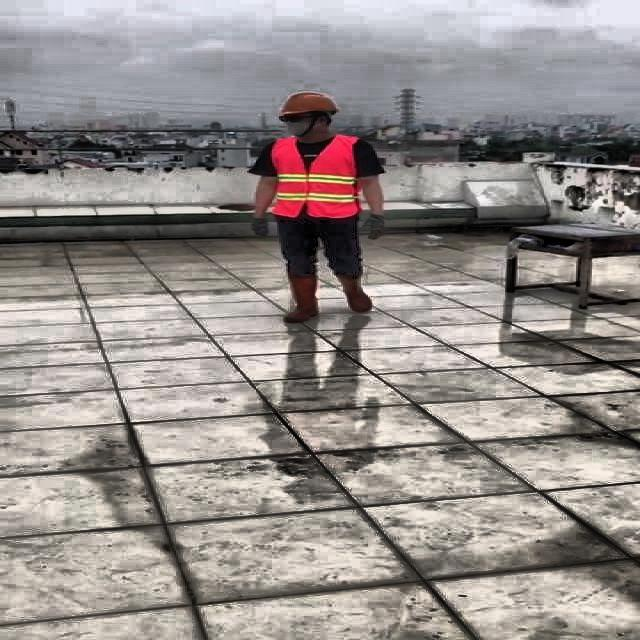safety_helmet: (274, 89, 346, 120)
safety_jacket: (272, 136, 364, 219)
